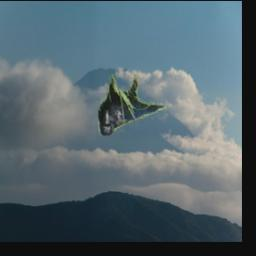Crow: (98, 75, 167, 136)
